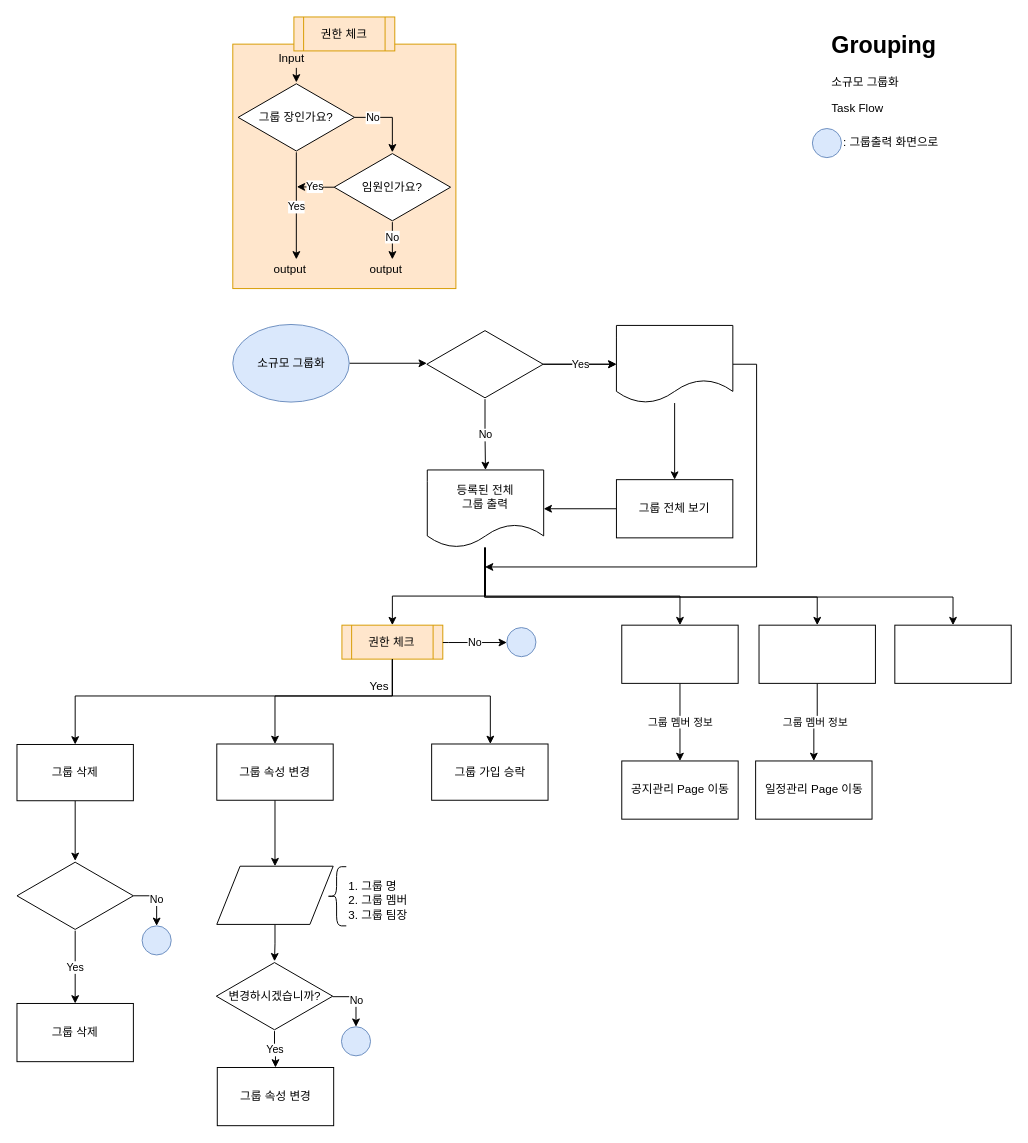
The diagram is 1028 pixels wide and 1143 high, and some of its shapes have lost their labels. The centre of each missing label's shape, as x and y in pixels:
"그룹 가입 신청" goes at [952,653].
"그룹 공지" goes at [679,653].
"그룹 속성 입력" goes at [274,894].
"그룹 일정" goes at [816,653].
"소속된 그룹만 출력" goes at [674,363].
"소속된 그룹이 있나요?" goes at [484,363].
"정말로 삭제하시겠습니까?" goes at [74,895].
